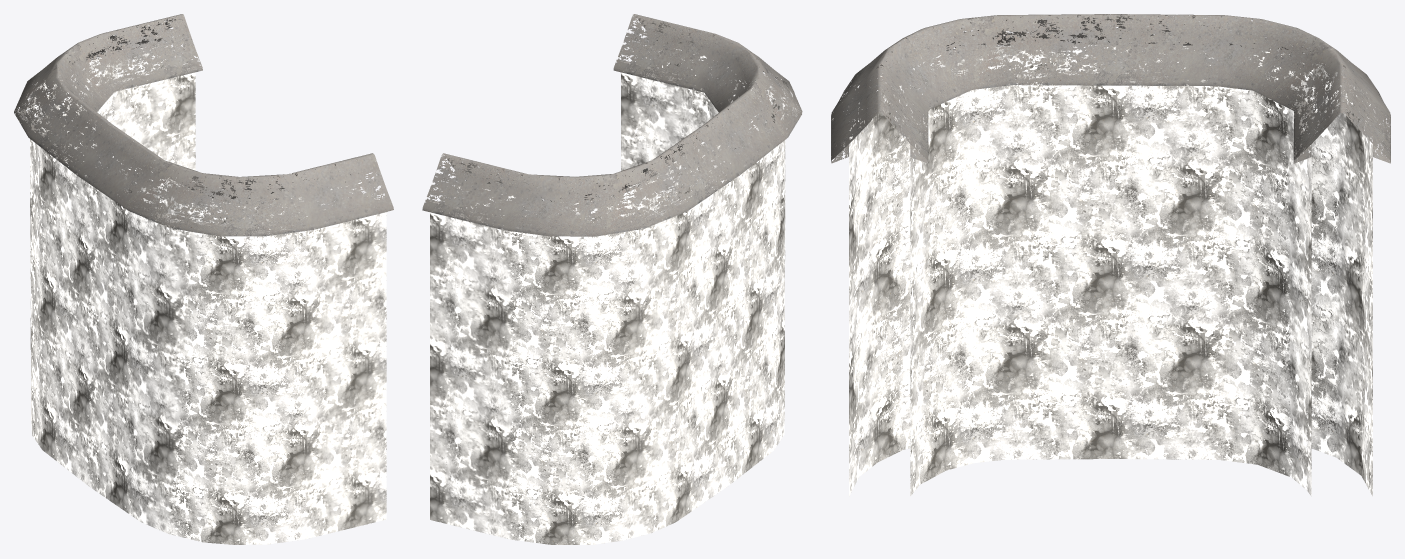
3 renders of one model, left to right at view 1: azimuth 30°, elevation 25°; view 2: azimuth 150°, elevation 25°; view 3: azimuth 270°, elevation 25°, orthographic. The views are drawn at different scales.
Parts seen in each view (by area): view 1: SM_fence_6m_02_LOD0; view 2: SM_fence_6m_02_LOD0; view 3: SM_fence_6m_02_LOD0.
Boxes of the visible parts, box(x1,y1,x2,y2) form: SM_fence_6m_02_LOD0: box(14, 14, 393, 544); SM_fence_6m_02_LOD0: box(422, 14, 802, 544); SM_fence_6m_02_LOD0: box(831, 14, 1390, 496).
Size of the model in its own units: 324 by 641 by 547.
2 materials, 2 textured.
